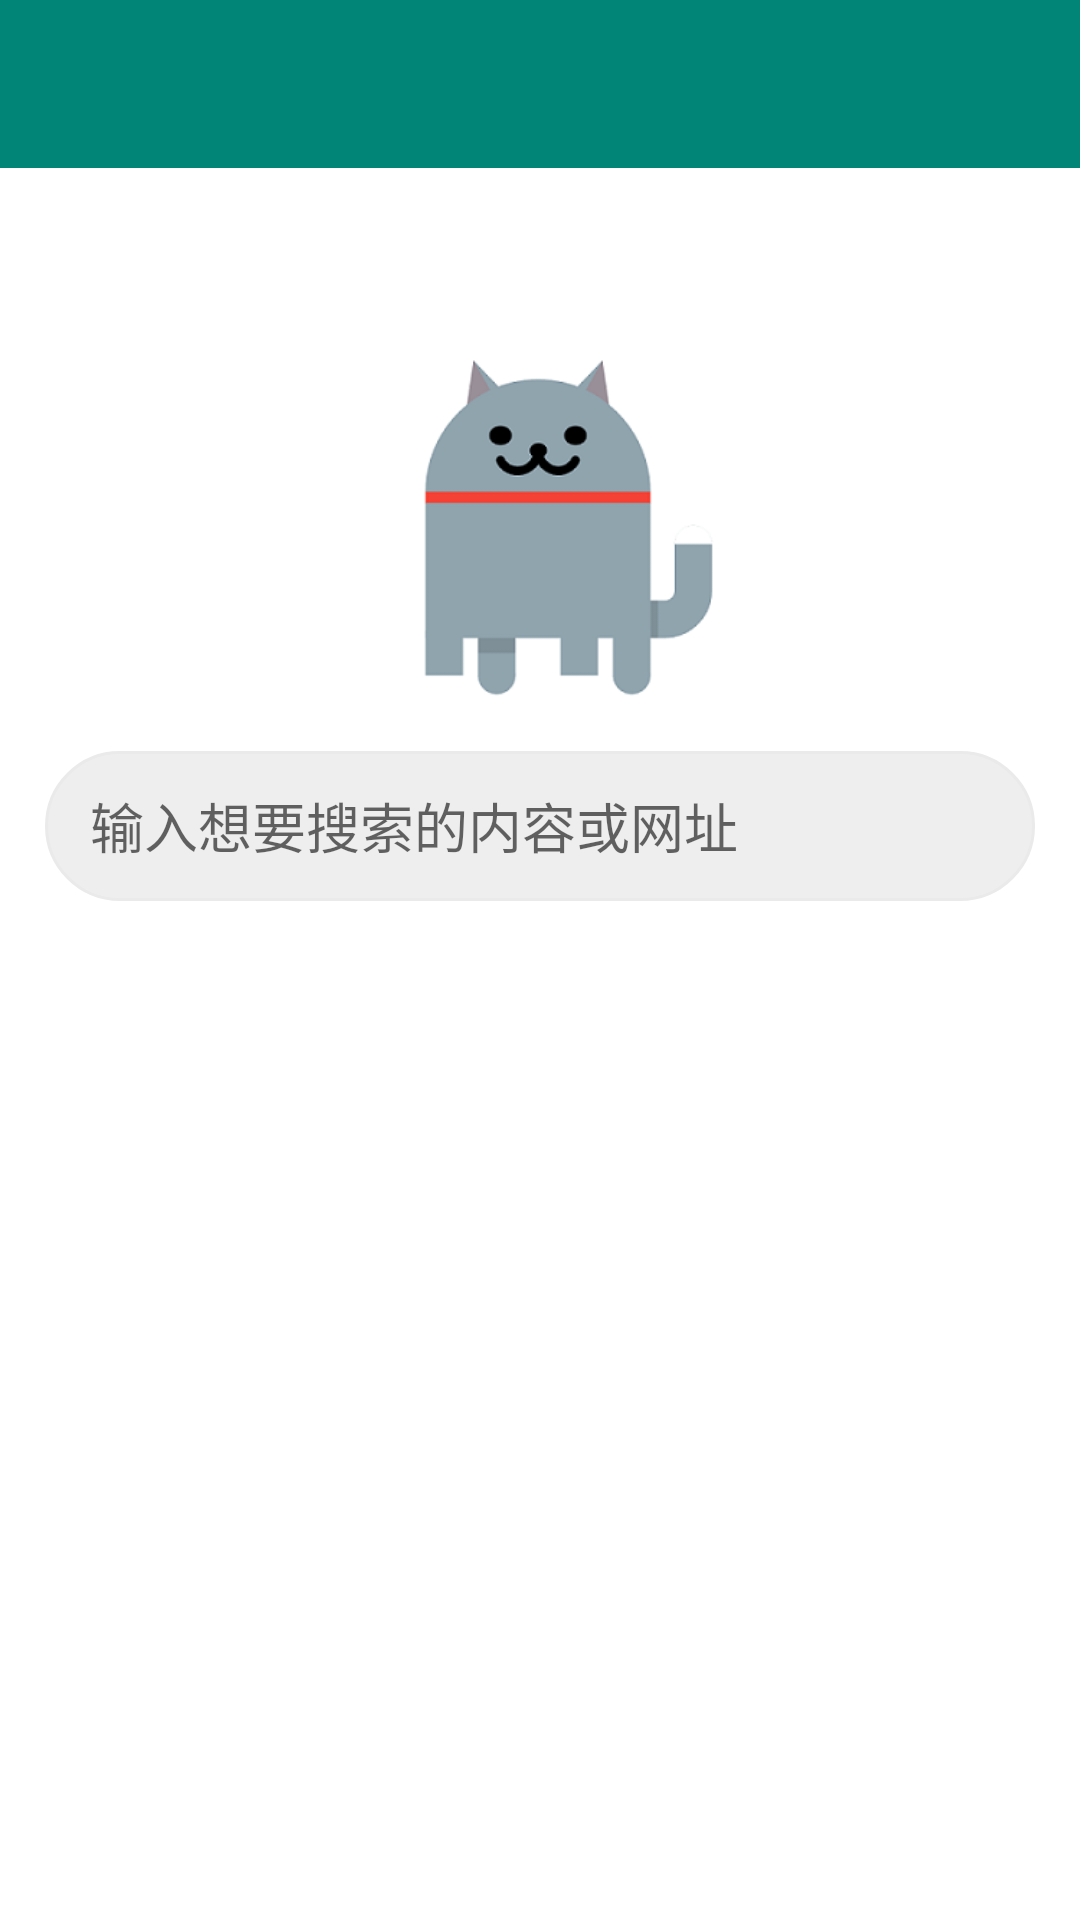

Named icons in this screenshot (1080px x 1920px) and their bounding boxes, rect(x1, y1, x2, y2):
cat: rect(424, 360, 713, 695)
